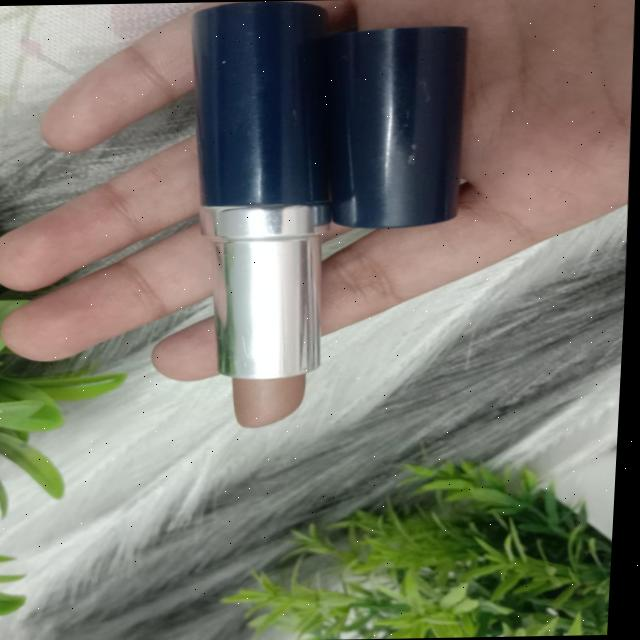lip stick: (152, 0, 347, 447)
